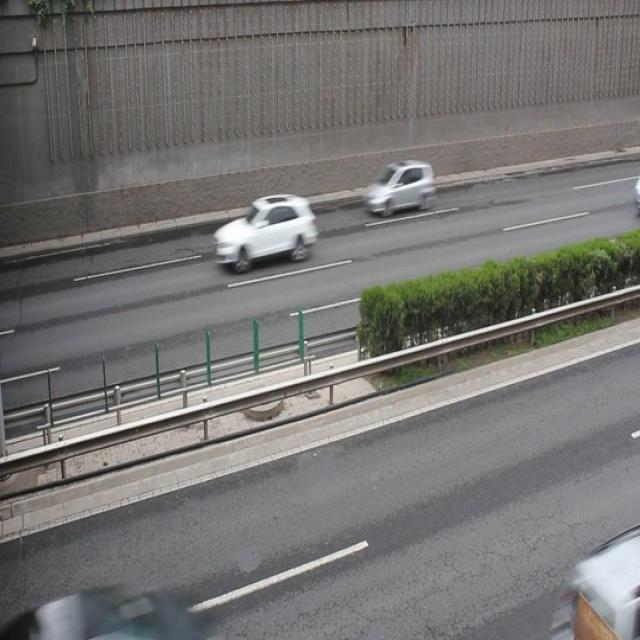car: (557, 539, 640, 640), (213, 191, 317, 271), (362, 158, 434, 215)
